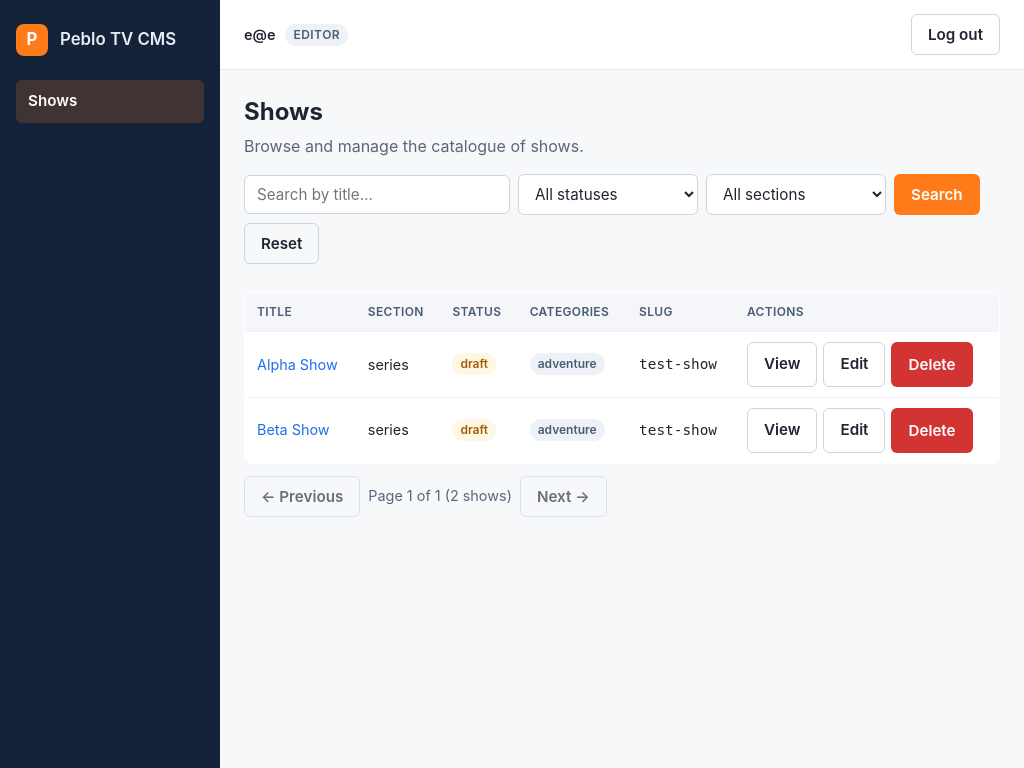
Scenario: ShowsListPage › opens delete confirmation dialog
Click the button with test id "delete-show-1" at (932, 364), box [892,342,973,387]
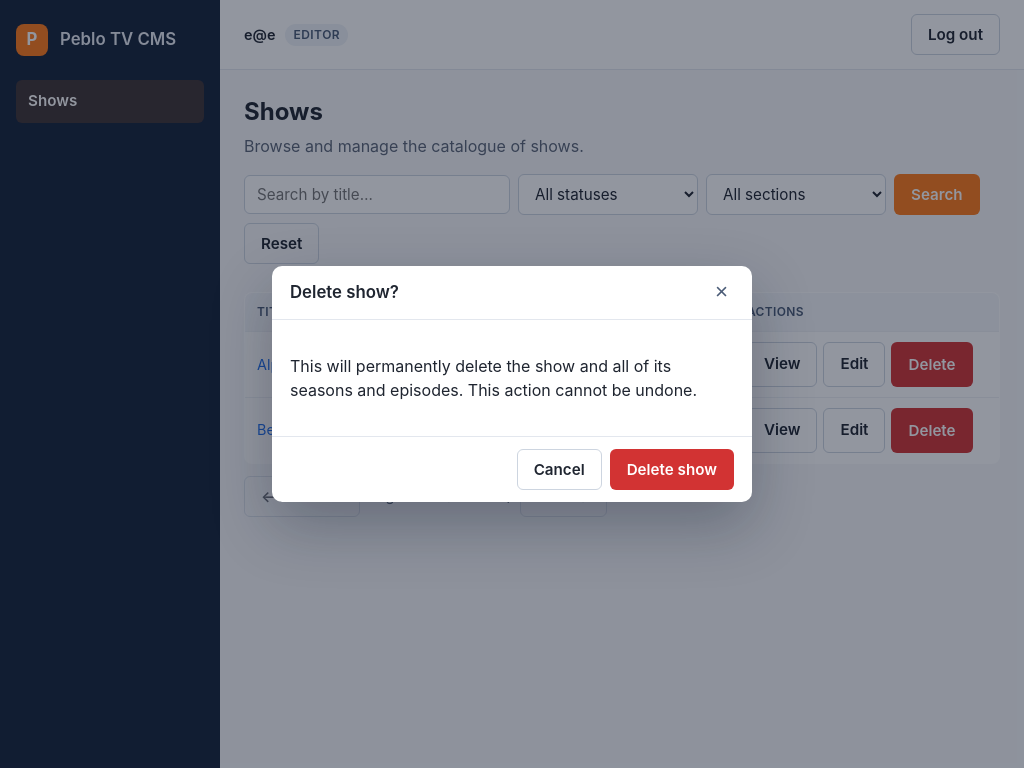
Now the heading "Delete show?" is shown, box [290,280,399,305]
